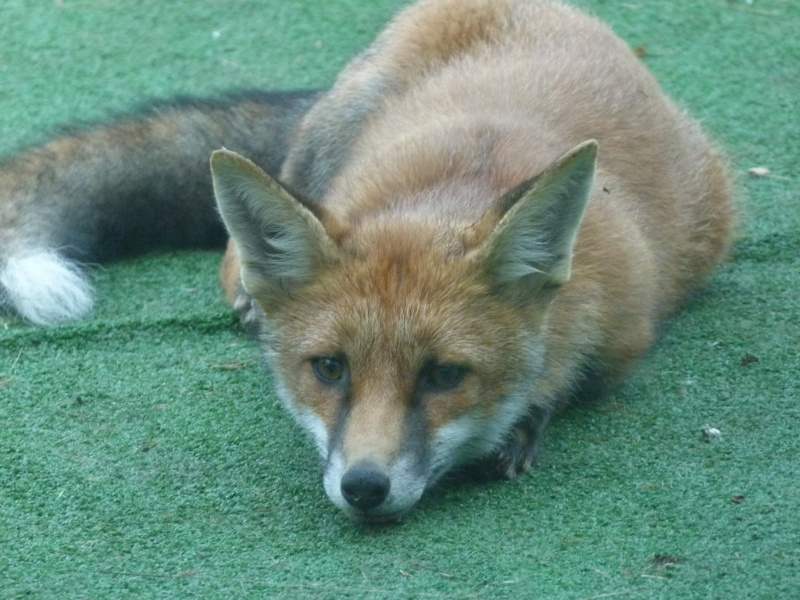fox: (1, 2, 738, 530)
